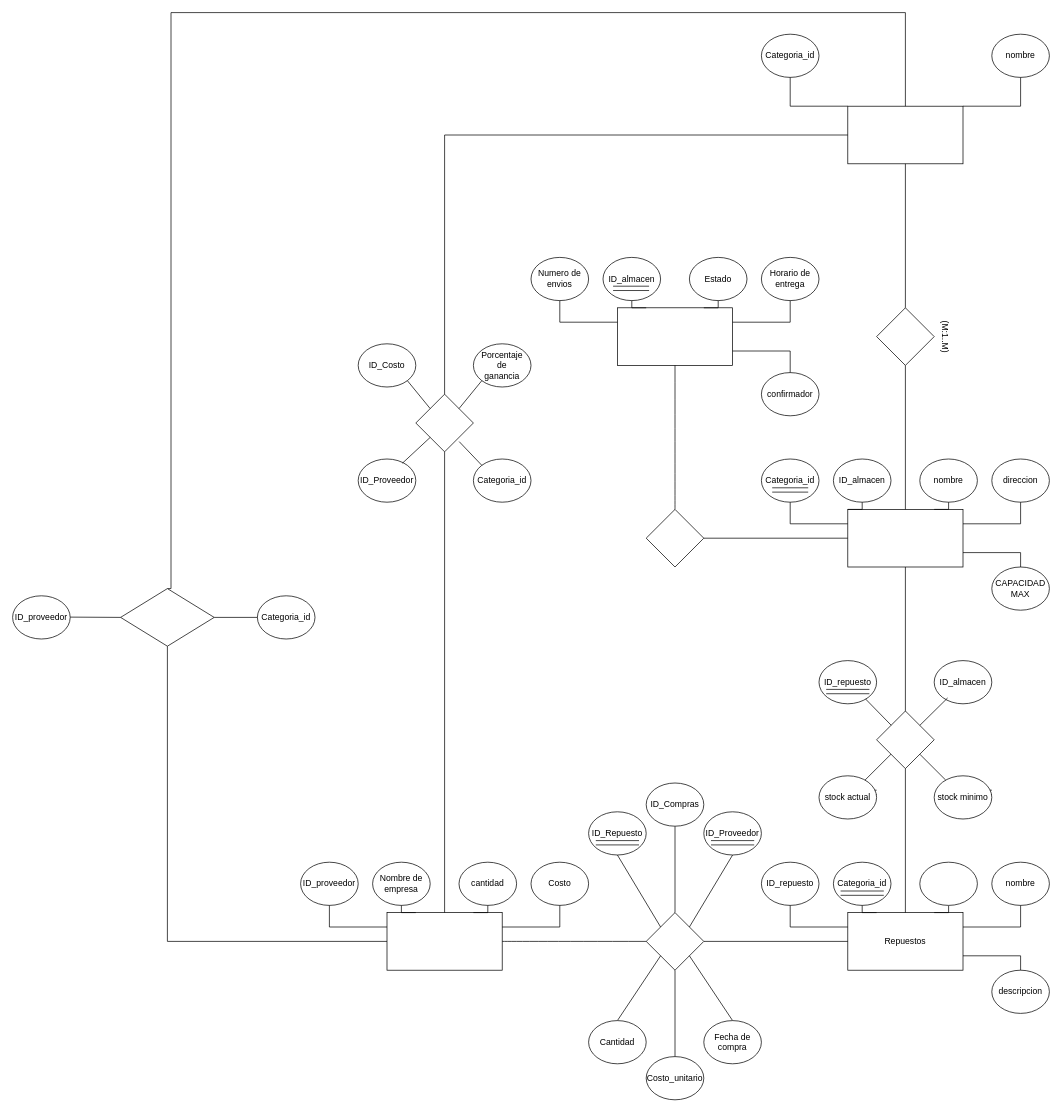
The diagram is 1062 pixels wide and 1112 high, and some of its shapes have lost their labels. The centre of each missing label's shape, as x and y in pixels:
"Almacen" belongs at (905,538).
"Categoria" belongs at (905,134).
"Compras proveedor" belongs at (674,941).
"Costos" belongs at (444,422).
"Envio" belongs at (675,336).
"Provedorees" belongs at (444,941).
"Proveedor_Categorias" belongs at (167,617).
"Stock de repuestos" belongs at (905,739).
"tipo" belongs at (948,883).
